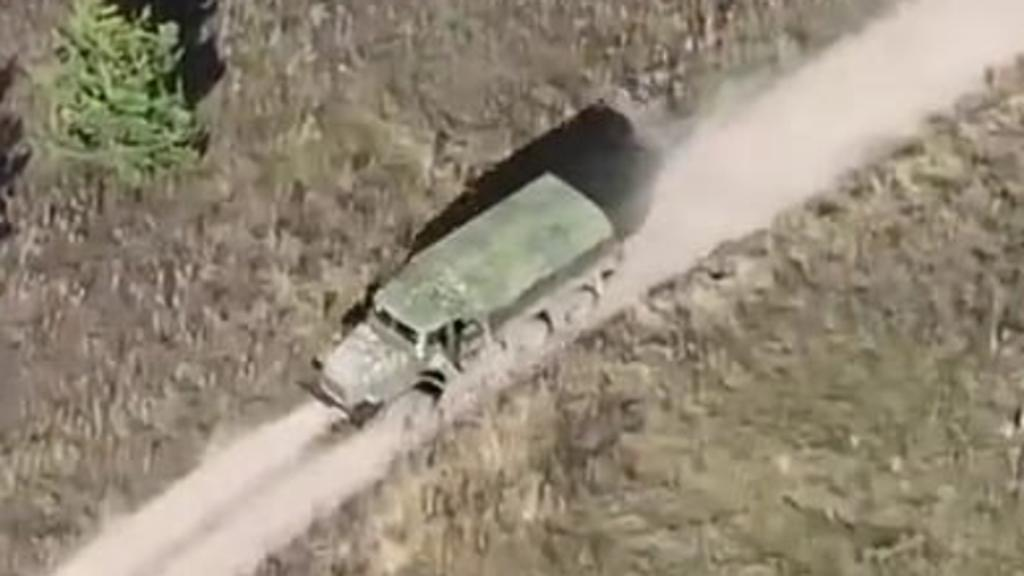TRUCK: (298, 166, 622, 450)
